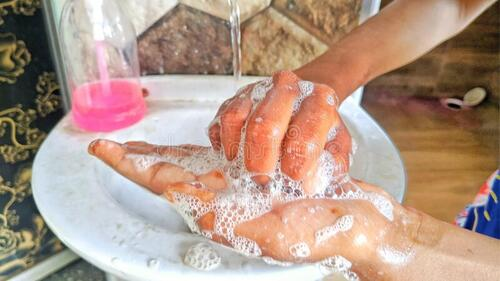sanitizer: (59, 1, 148, 131)
